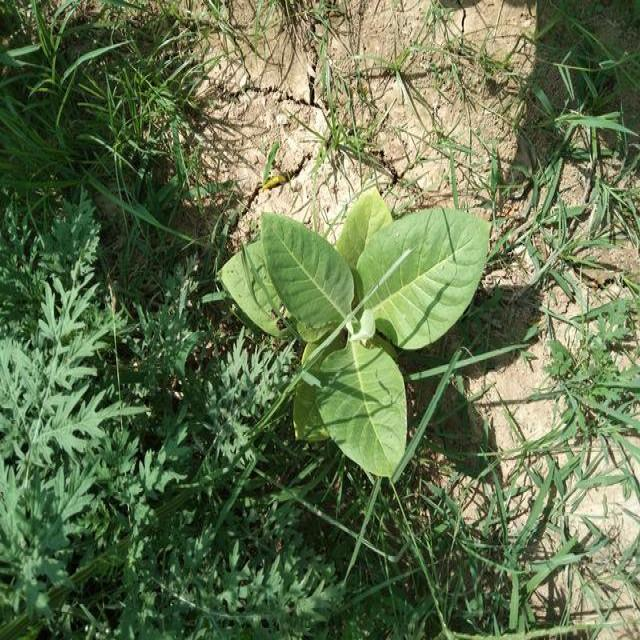crop: (222, 198, 480, 470)
